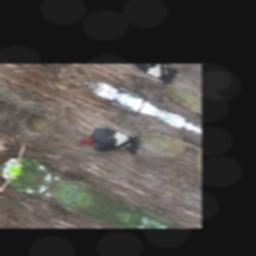Woodpecker: (72, 113, 146, 172)
